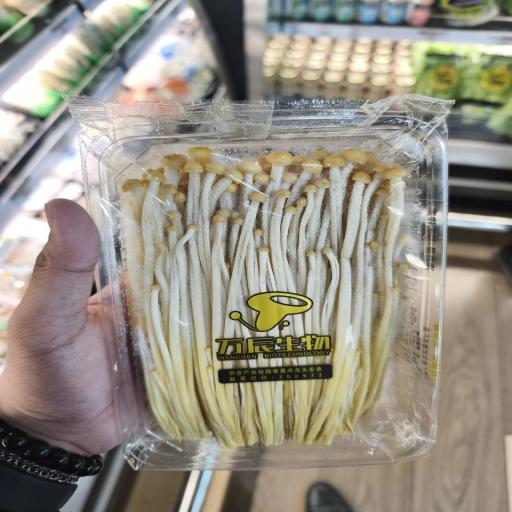Enoki Mushroom: (126, 142, 415, 444)
